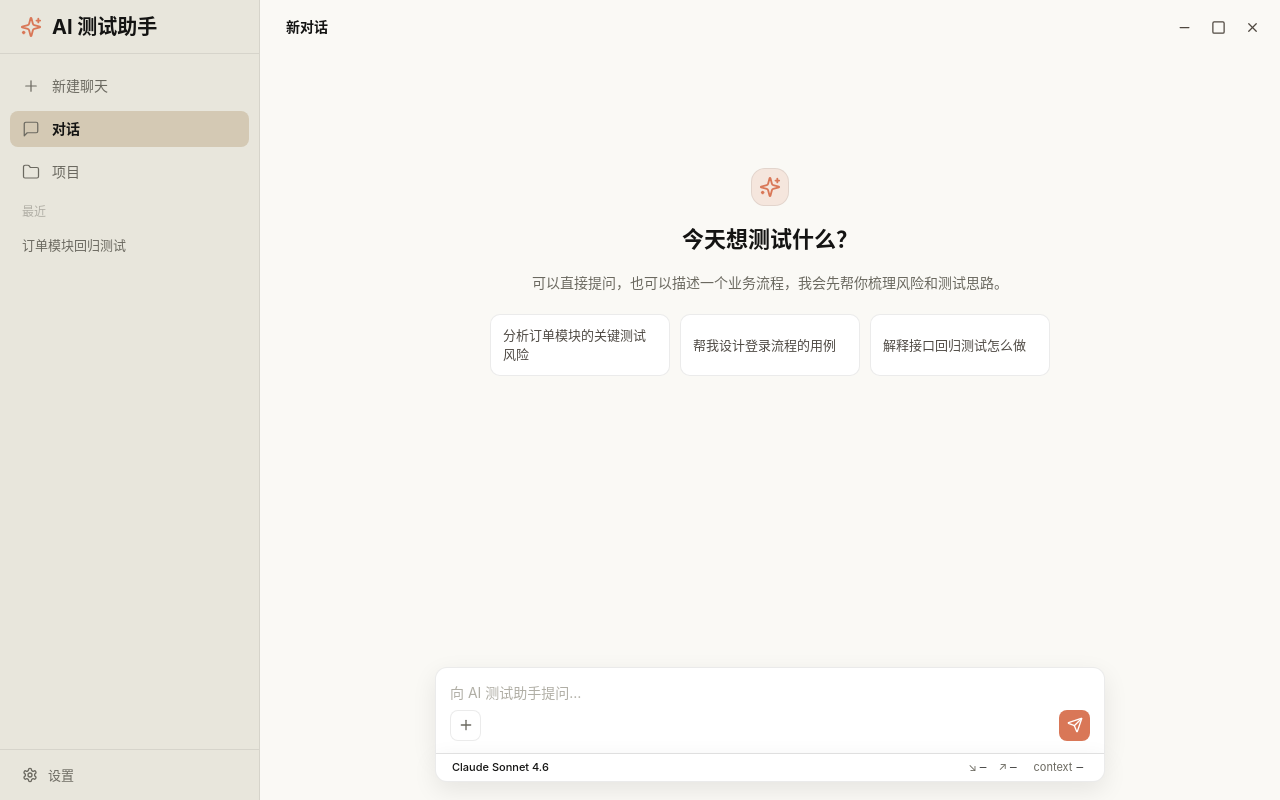
Test: App backend integration › starts on a new conversation and every sidebar/composer control gives visible feedback
Expected: the text "新对话" is shown, [286,17,328,37]
Click the button "项目" at point(130, 172), box [10,154,249,190]
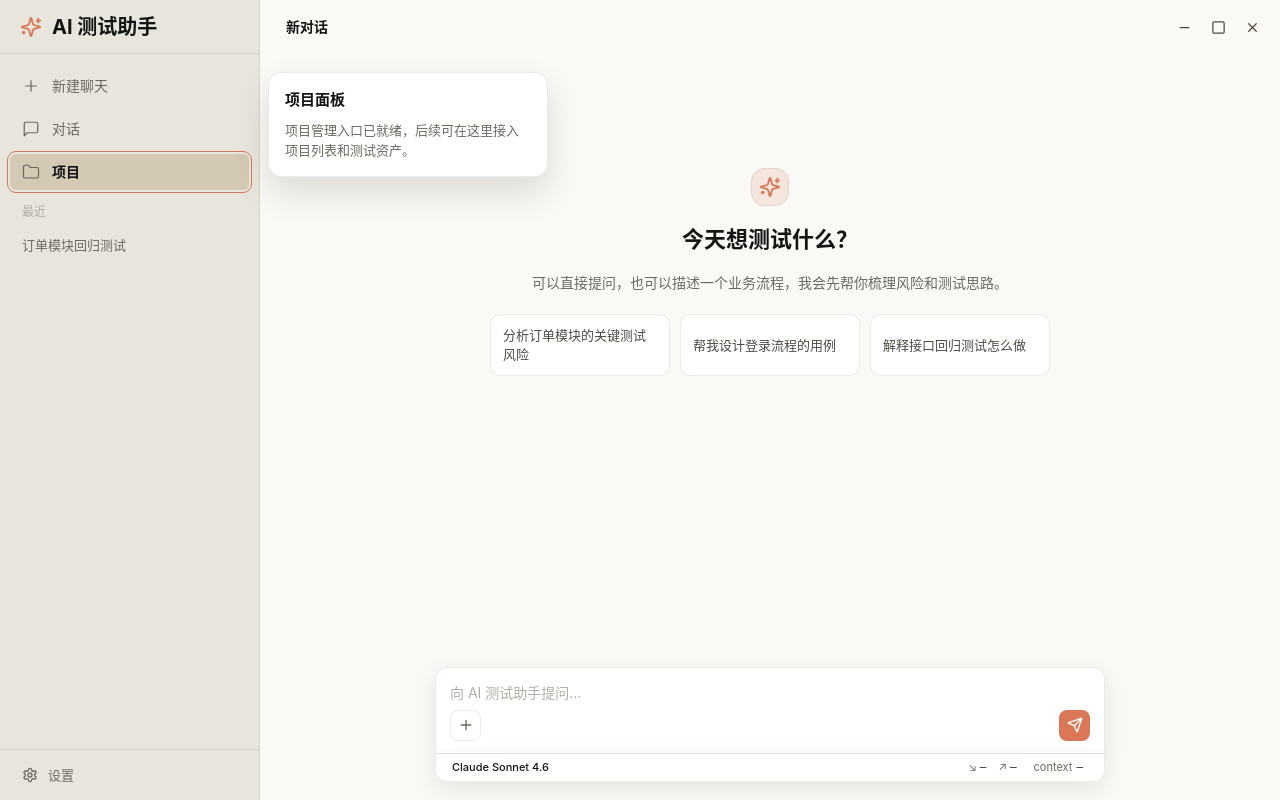
Expected: the element "项目面板" is shown, [268,72,548,177]
Click the button "对话" at point(130, 129), box [10,111,249,147]
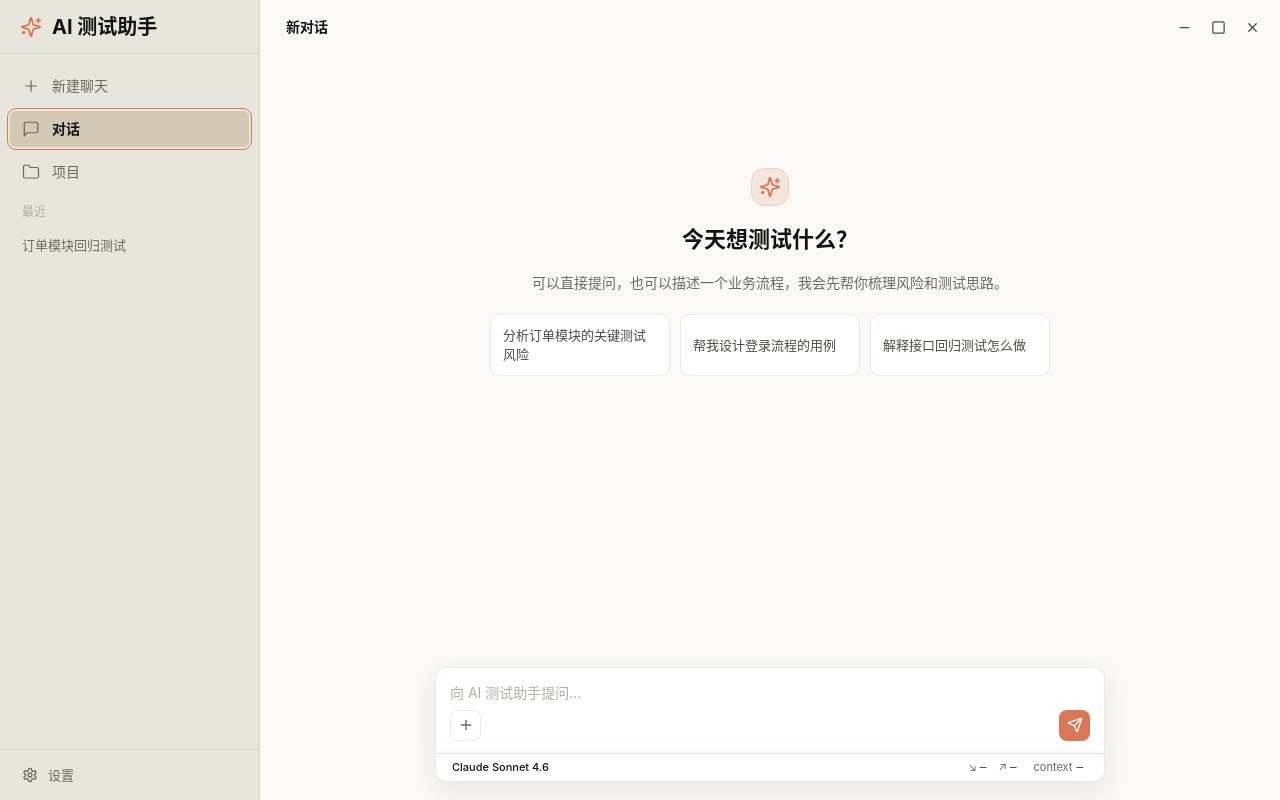
Expected: the heading "项目面板" is gone
Click the button named "添加内容" at point(466, 725), box [450,710,481,741]
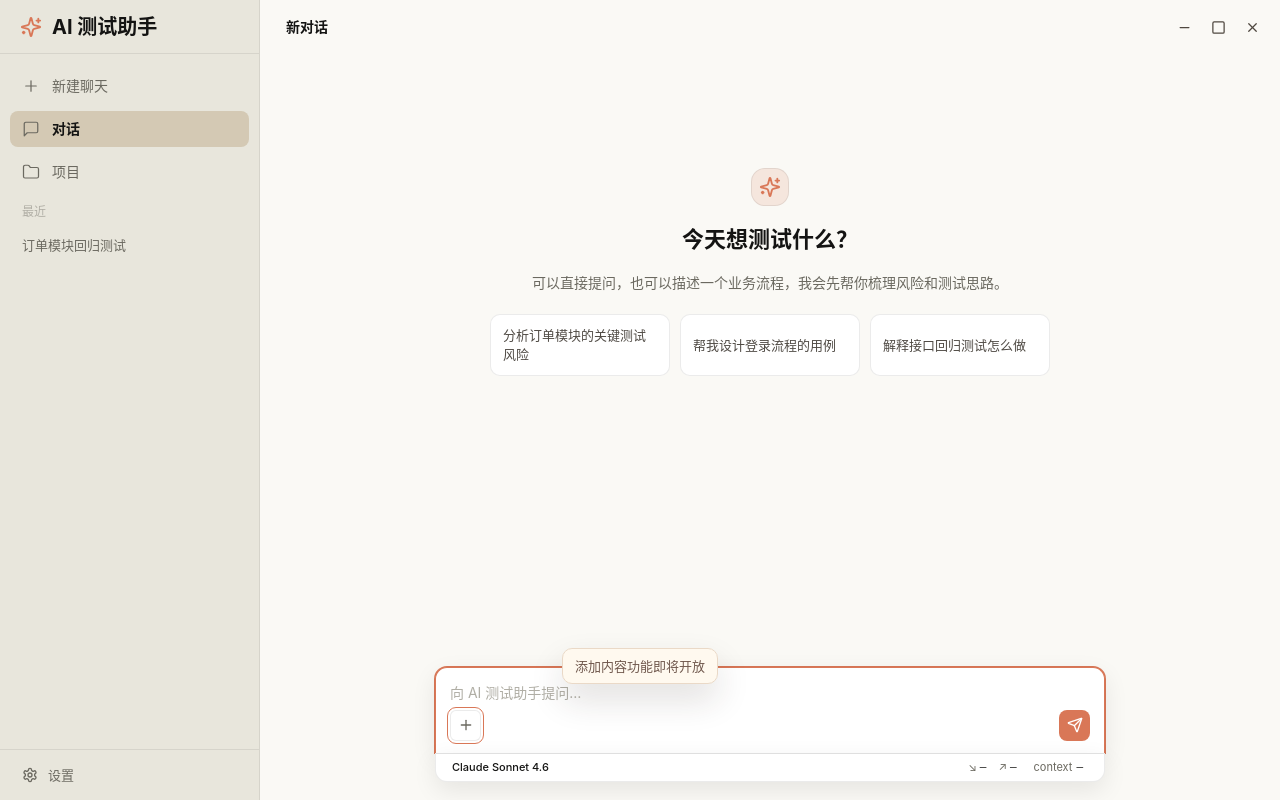
Expected: the text "添加内容功能即将开放" is shown, [562,648,718,684]
